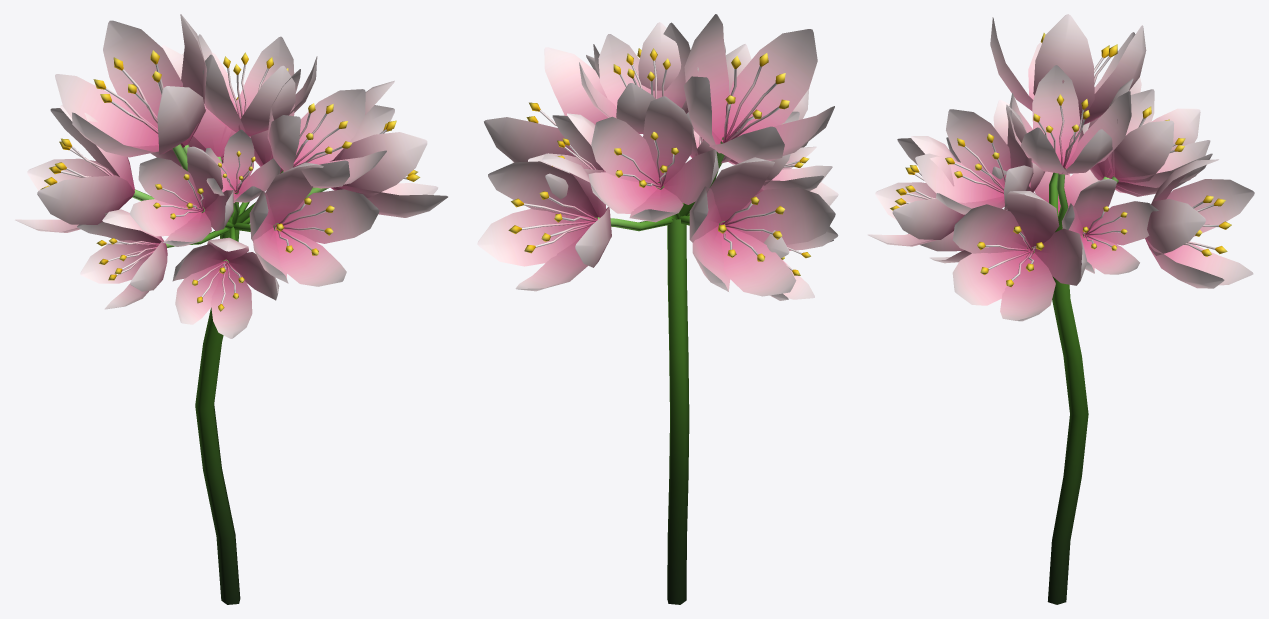
Rendered from 01_AlliumRoseum.002.fbx.
The picture shows the model from 3 angles, left to right: view 1: azimuth 30°, elevation 25°; view 2: azimuth 150°, elevation 25°; view 3: azimuth 270°, elevation 25°; orthographic projection. The views are drawn at different scales.
Parts seen in each view (by area): view 1: _01_AlliumRoseum_002; view 2: _01_AlliumRoseum_002; view 3: _01_AlliumRoseum_002.
Boxes of the visible parts, left/top/right/bottom form: _01_AlliumRoseum_002: left=15, top=14, right=447, bottom=604; _01_AlliumRoseum_002: left=477, top=14, right=838, bottom=604; _01_AlliumRoseum_002: left=867, top=14, right=1254, bottom=604.
Size of the model in its own units: 31.56 by 49.56 by 30.75.
